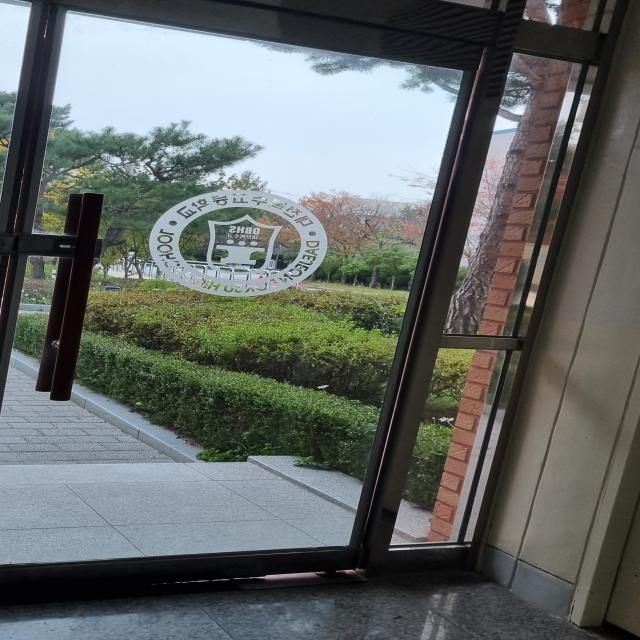logo: (130, 177, 339, 309)
